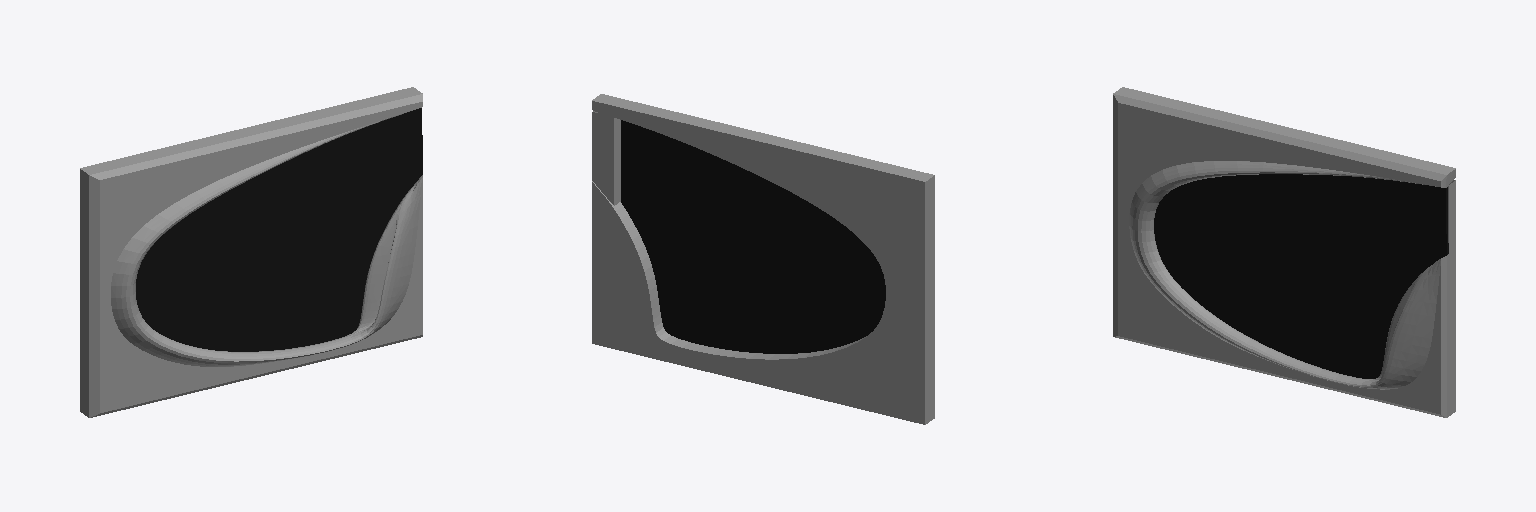
File: drzwi.obj
3 renders of one model, left to right at view 1: azimuth 30°, elevation 25°; view 2: azimuth 150°, elevation 25°; view 3: azimuth 330°, elevation 25°, orthographic.
Parts seen in each view (by area): view 1: Plane.003_Plane.016; view 2: Plane.003_Plane.016; view 3: Plane.003_Plane.016.
Boxes of the visible parts, x1,y1,x2,y2 form: Plane.003_Plane.016: [80, 87, 422, 417]; Plane.003_Plane.016: [592, 94, 934, 424]; Plane.003_Plane.016: [1113, 87, 1455, 417].
Size of the model in its own units: 3.98 by 2.77 by 0.3887.